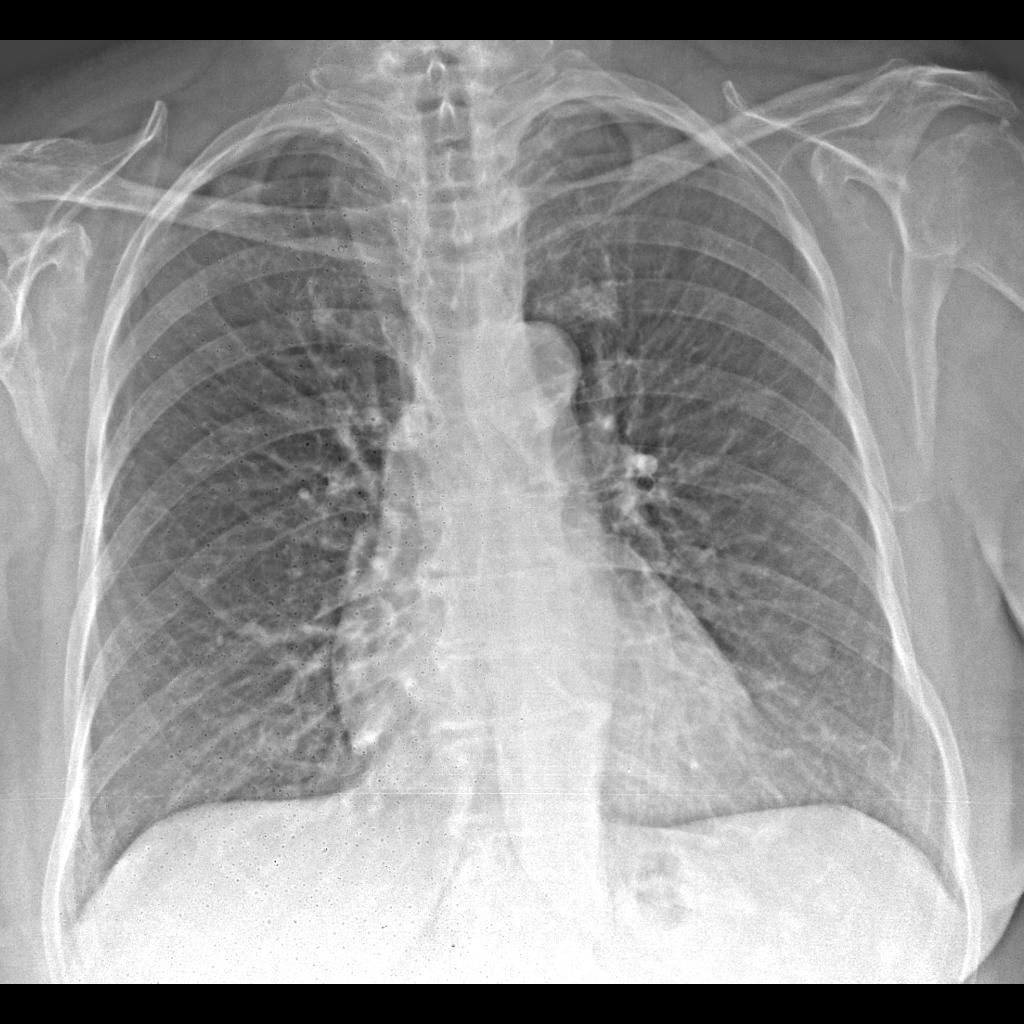Nodule: (775, 621, 838, 687)
